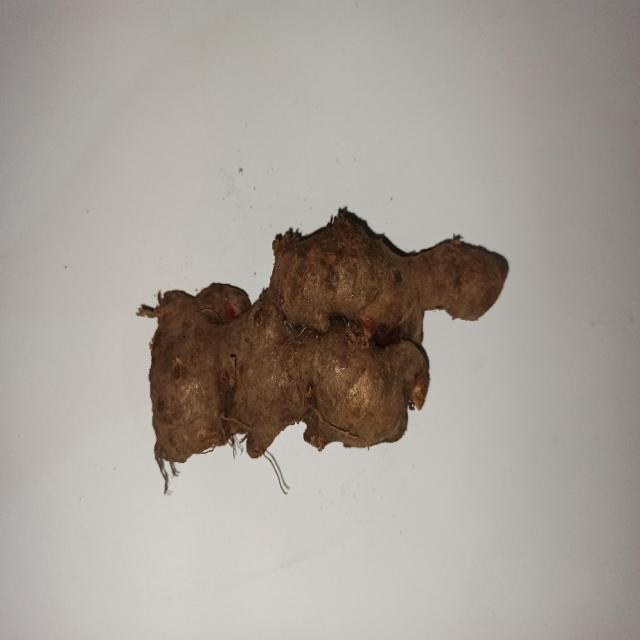ginger: (154, 226, 507, 446)
